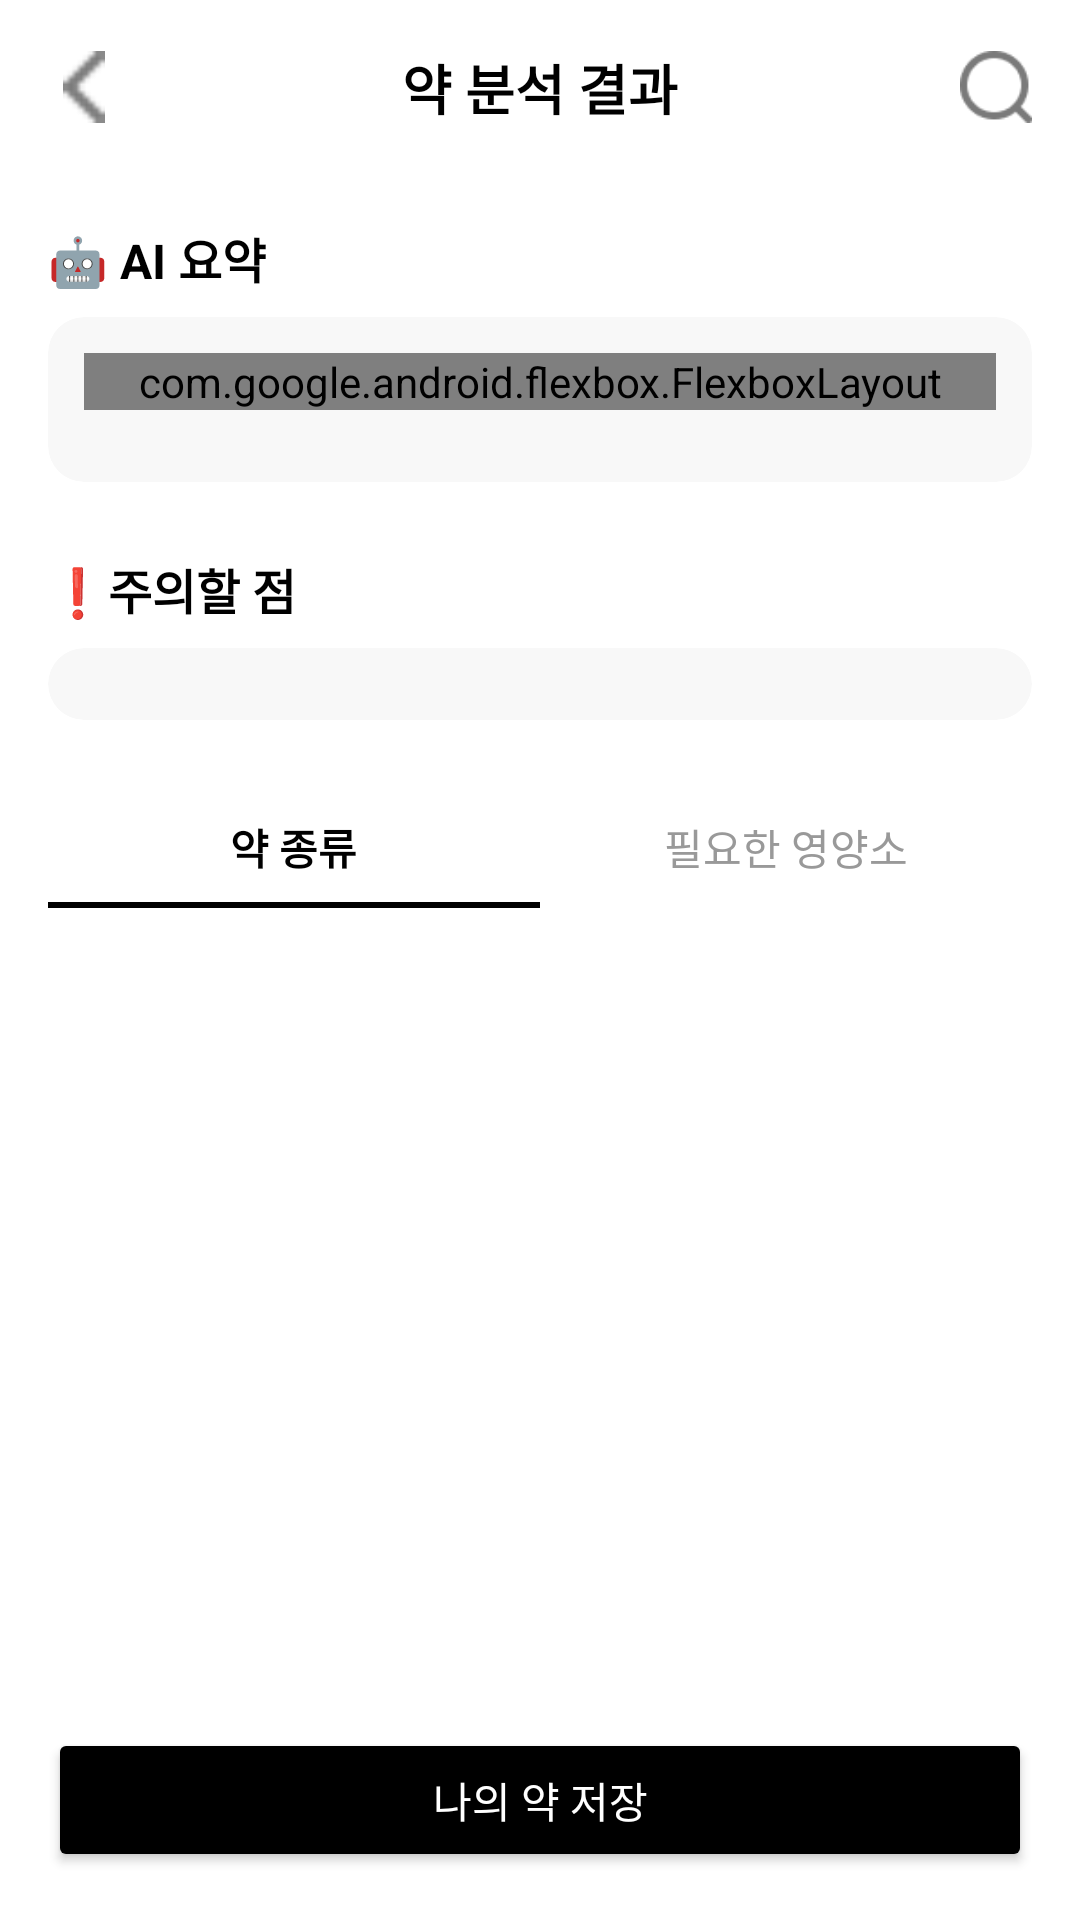

Icon bounding boxes for this 1080x1920 phone screenshot, format (x1, y1, x2, y2):
검색: (960, 51, 1032, 123)
뒤로가기: (63, 51, 105, 123)
